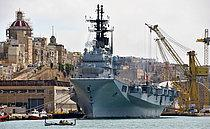MIL_Ship: (68, 4, 177, 119)
